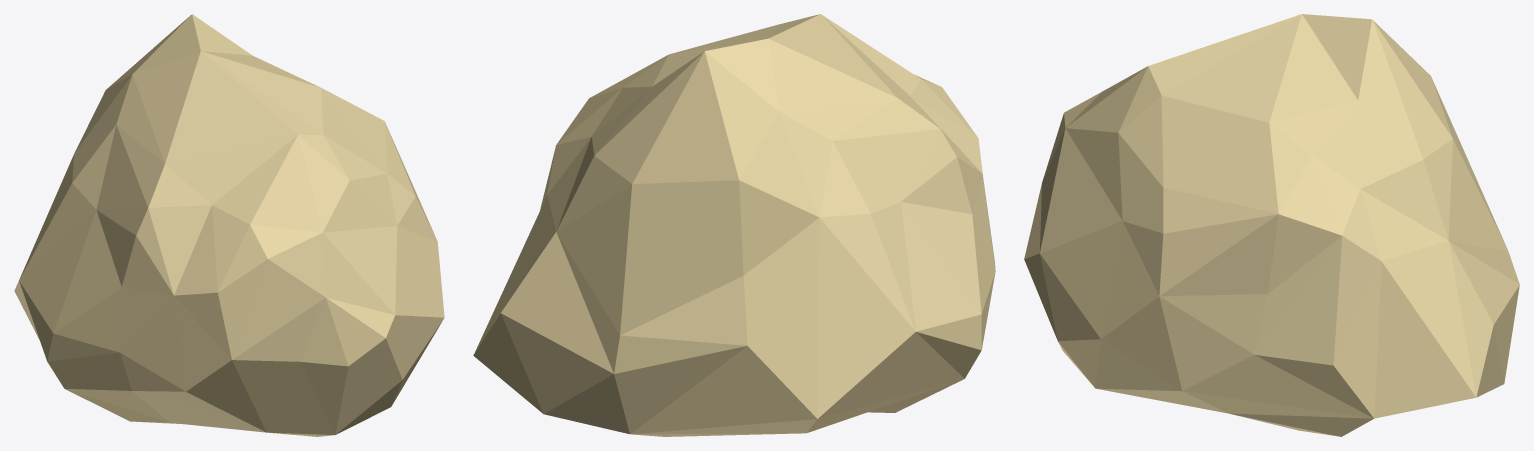
File: Rock (15).fbx
The picture shows the model from 3 angles, left to right: view 1: azimuth 30°, elevation 25°; view 2: azimuth 150°, elevation 25°; view 3: azimuth 270°, elevation 25°; orthographic projection. The views are drawn at different scales.
Visible parts, largest first — view 1: Asteroid14; view 2: Asteroid14; view 3: Asteroid14.
Boxes of the visible parts, x1,y1,x2,y2 form: Asteroid14: (14, 14, 444, 436); Asteroid14: (473, 14, 995, 436); Asteroid14: (1024, 14, 1519, 436).
Bounding box in the file's own units: 208 × 179 × 224.
